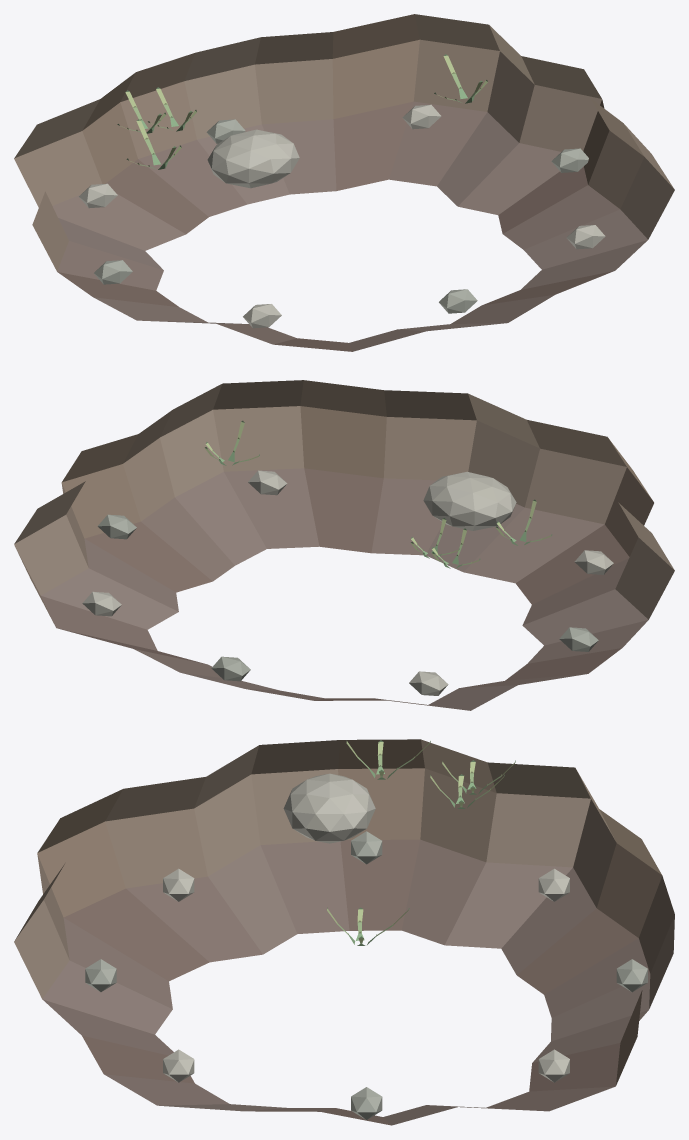
File: moss_island_medium.glb
3 renders of one model, top to bottom at view 1: azimuth 30°, elevation 25°; view 2: azimuth 150°, elevation 25°; view 3: azimuth 270°, elevation 25°, orthographic. The views are drawn at different scales.
Parts seen in each view (by area): view 1: Faceted_earth_bank, Waterline_stones, Seated_stone; view 2: Faceted_earth_bank, Waterline_stones, Seated_stone; view 3: Faceted_earth_bank, Waterline_stones, Seated_stone.
Boxes of the visible parts, x1,y1,x2,y2 form: Faceted_earth_bank: (14,14,674,351); Waterline_stones: (78,104,605,328); Seated_stone: (207,129,299,188); Faceted_earth_bank: (14,380,674,710); Waterline_stones: (82,470,613,695); Seated_stone: (423,471,516,530); Faceted_earth_bank: (14,739,674,1125); Waterline_stones: (85,831,647,1119); Seated_stone: (283,773,375,843).
Size of the model in its own units: 3.99 by 1.12 by 3.58.
